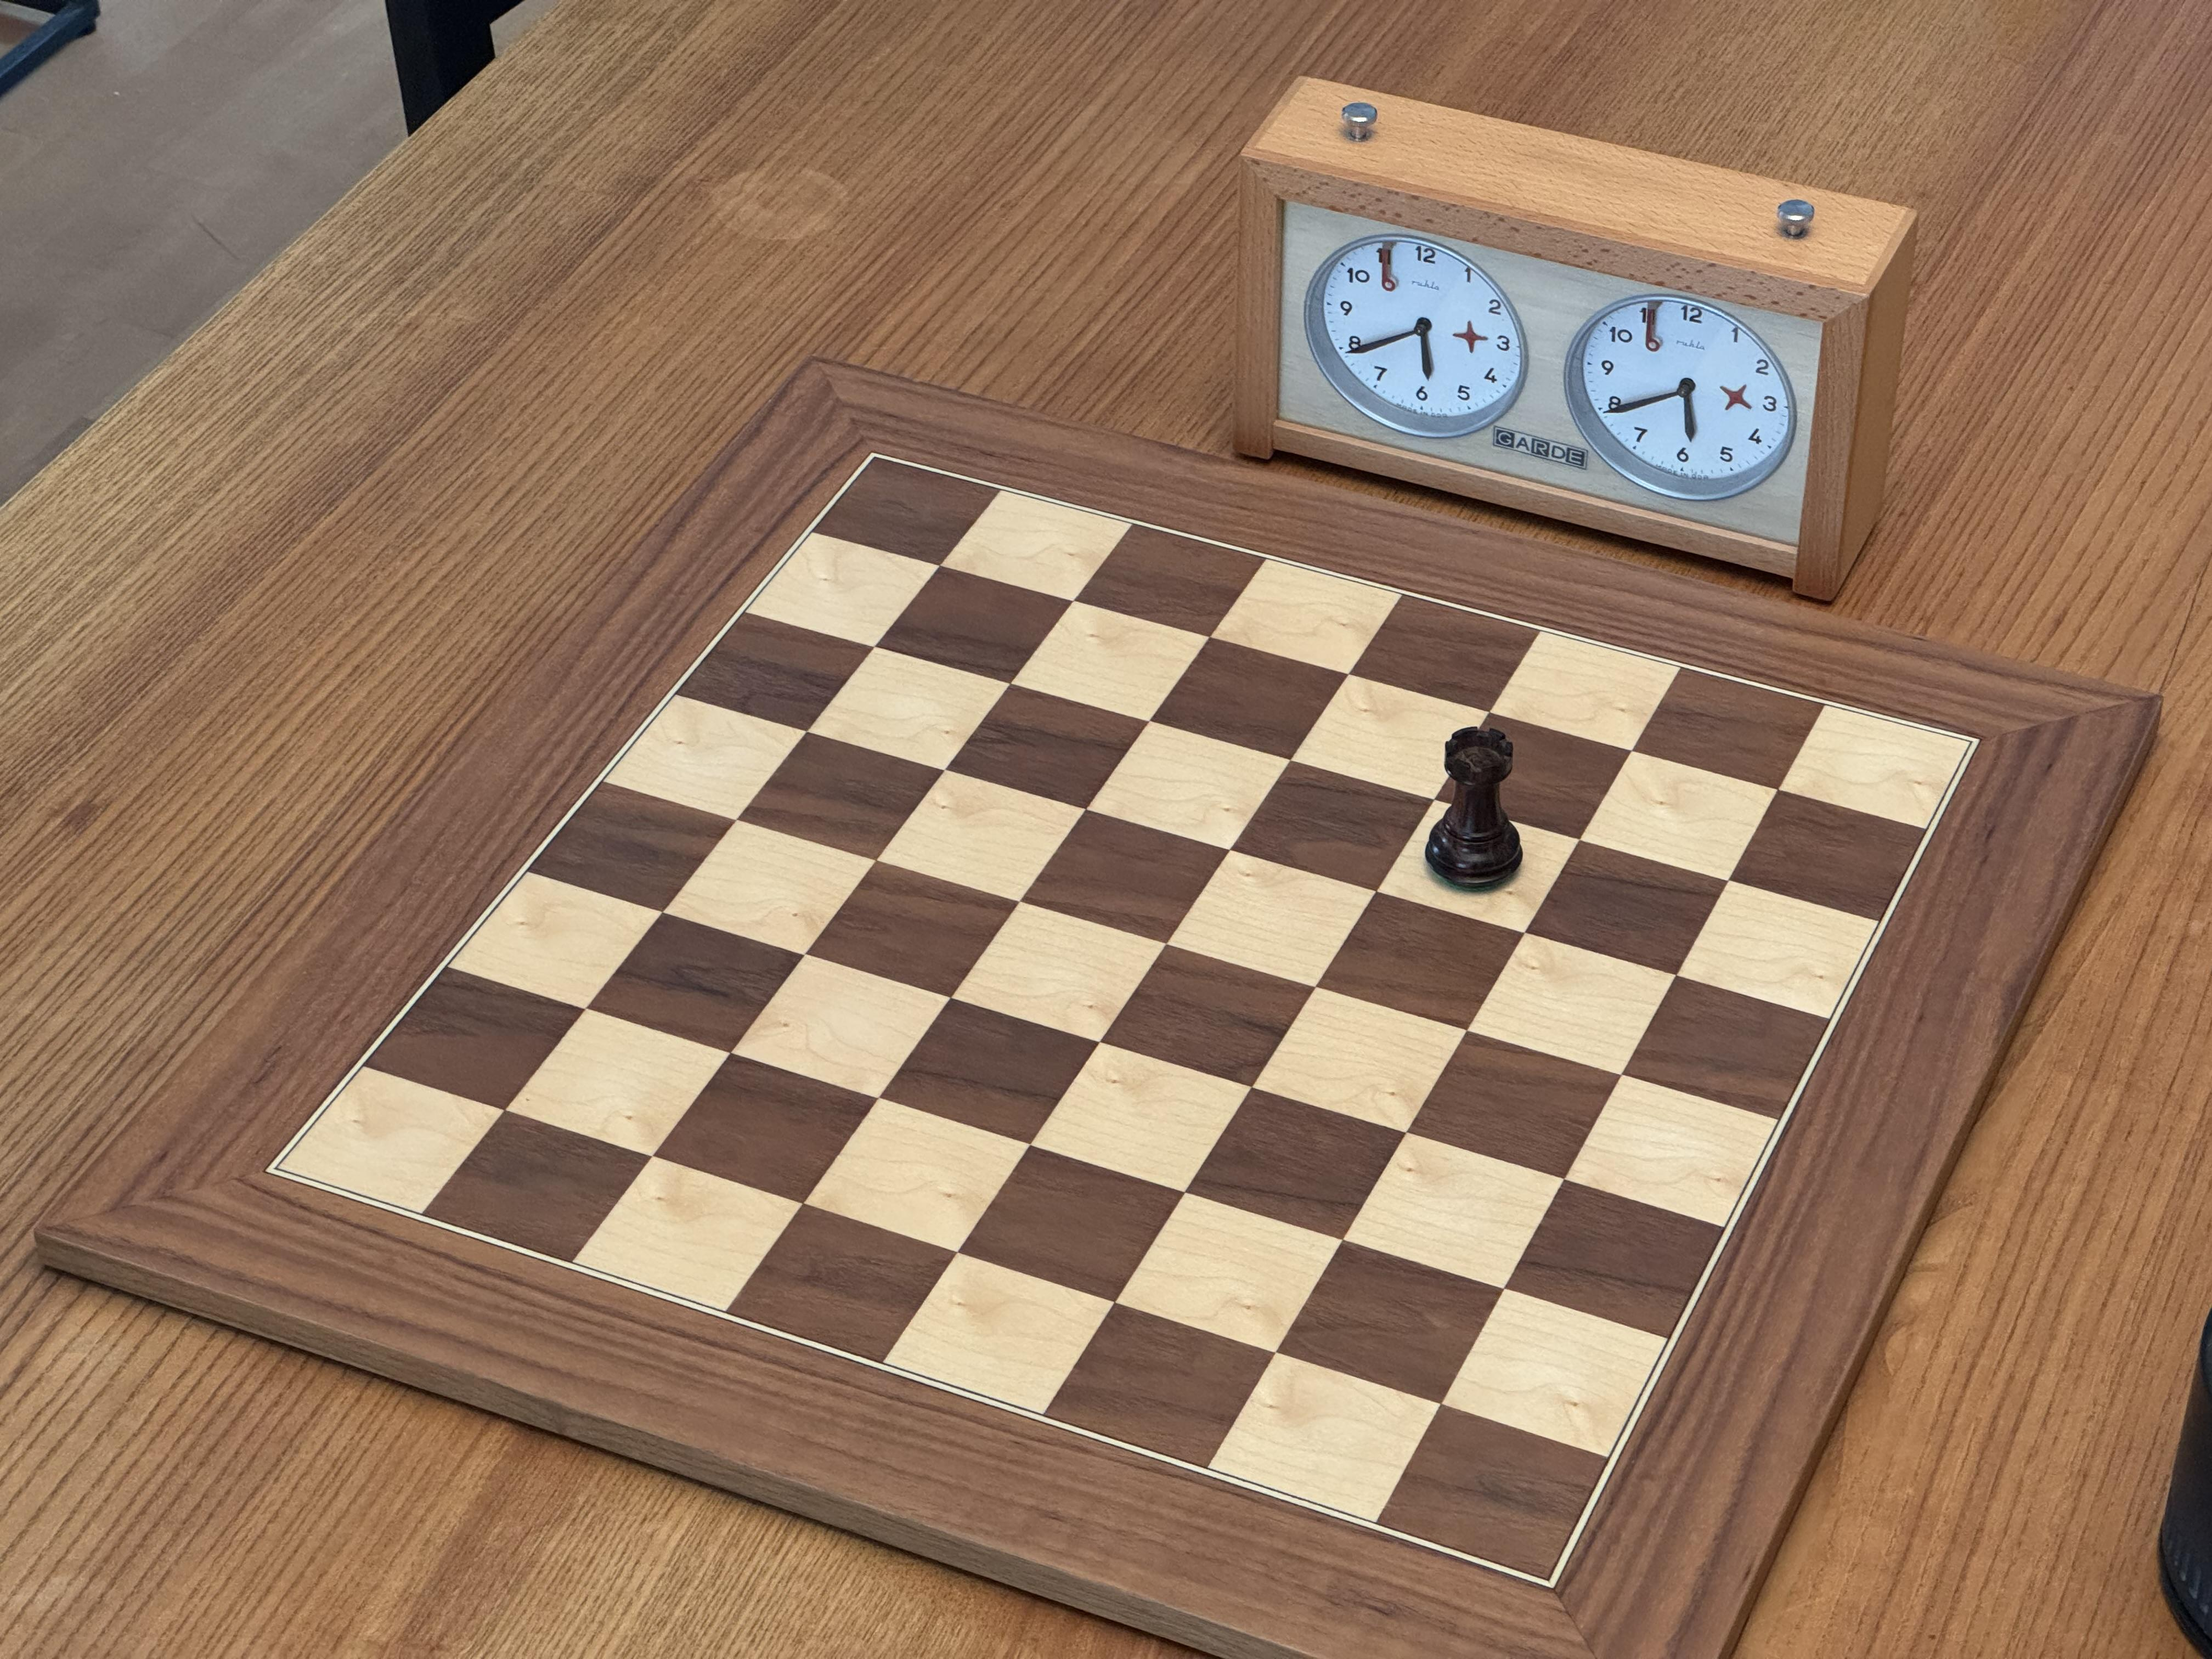Black Rook: (1420, 721, 1529, 896)
